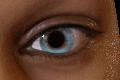eye: (41, 27, 73, 54)
